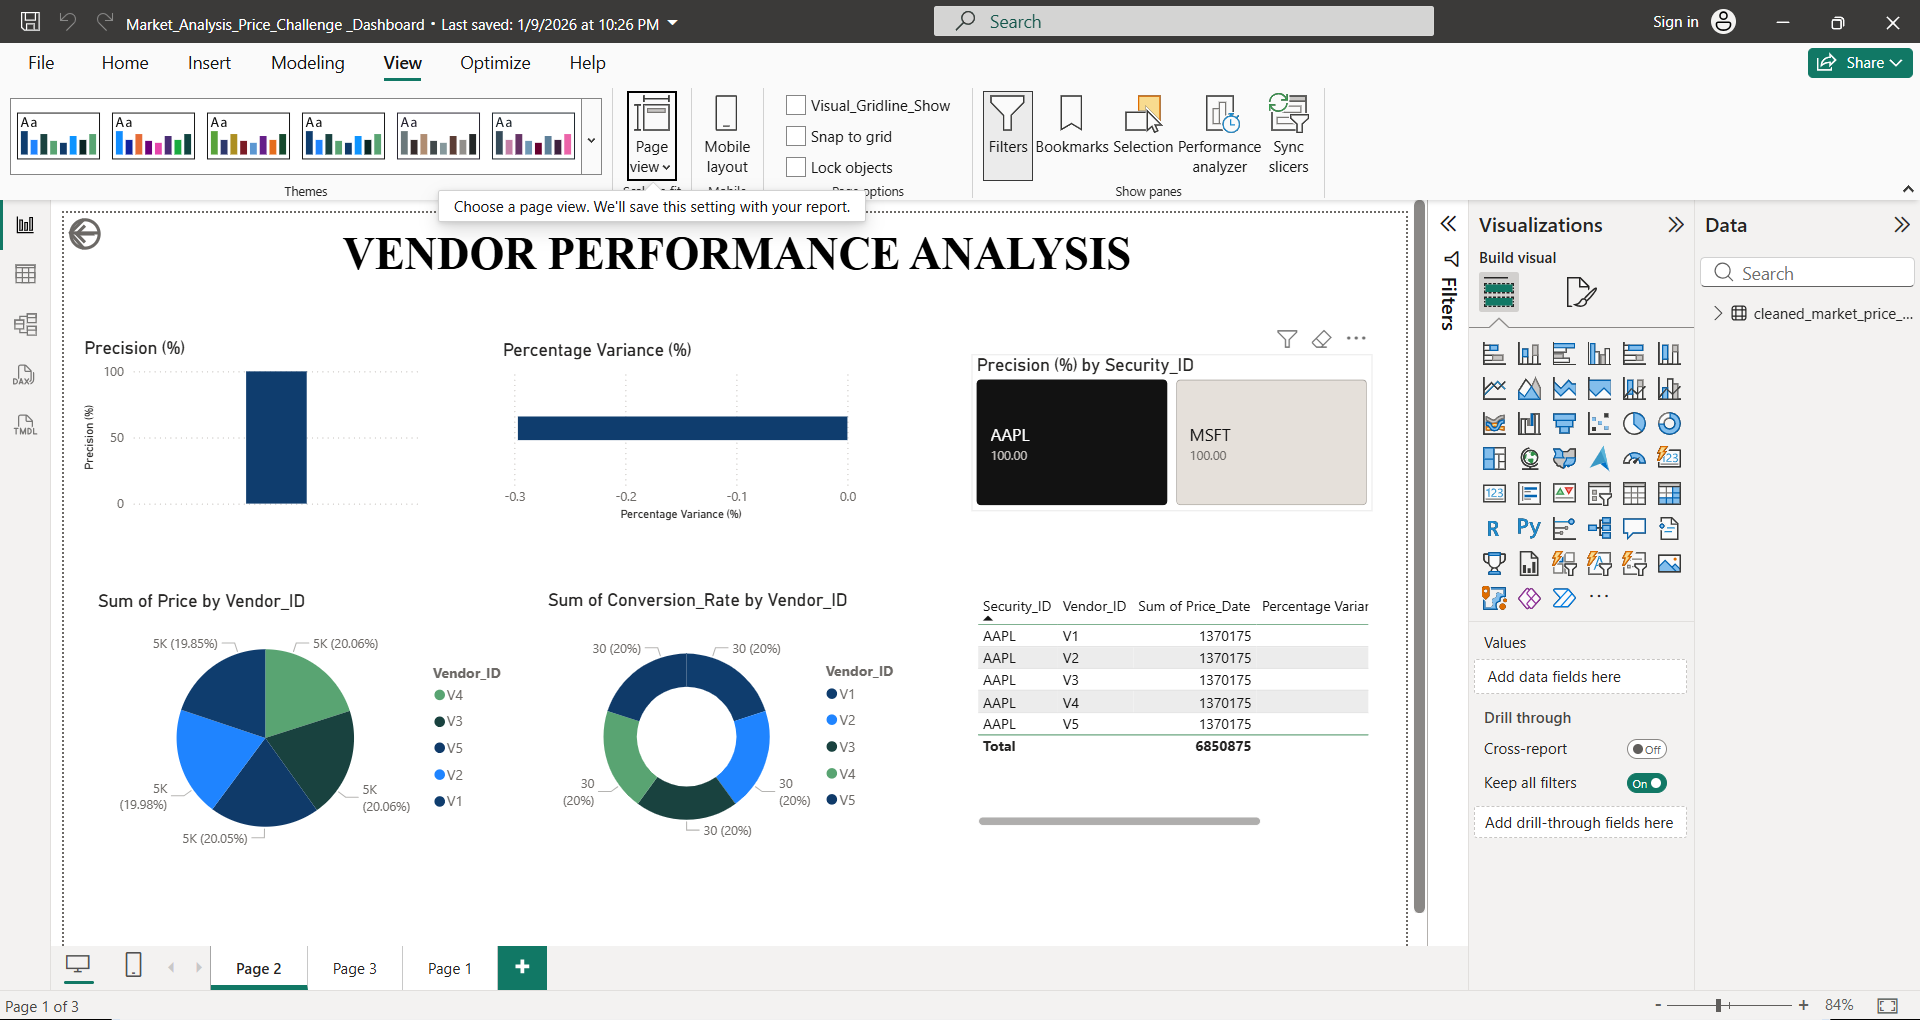

The dashboard page shown, as its layout file describes it:
{"tool":"powerbi","page":{"name":"Page 2","canvas":[1280,720],"ordinal":0},"visuals":[{"type":"columnChart","fields":{"Y":["cleaned_market_price_data.Precision (%)"]},"box":[14.3,117.7,332.3,173.3],"z":0},{"type":"barChart","fields":{"Y":["cleaned_market_price_data.Percentage Variance (%)"]},"box":[413.4,120.8,346.6,178.1],"z":2000},{"type":"textbox","box":[27,326,280,150],"z":3000},{"type":"textbox","box":[14.3,9.5,1254.6,97],"z":4000},{"type":"pieChart","fields":{"Category":["cleaned_market_price_data.Vendor_ID"],"Y":["cleaned_market_price_data.Price"]},"box":[27.3,359.7,412.5,262.5],"z":5000},{"type":"actionButton","box":[0,0,100,40],"z":6000},{"type":"donutChart","fields":{"Category":["cleaned_market_price_data.Vendor_ID"],"Y":["cleaned_market_price_data.Conversion_Rate"]},"box":[456.4,359.4,357.8,262.4],"z":7000},{"type":"actionButton","box":[0,0,100,40],"z":7001},{"type":"advancedSlicerVisual","fields":{"Values":["cleaned_market_price_data.Security_ID"],"Label":["cleaned_market_price_data.Precision (%)"]},"box":[865,135.2,383.2,149.5],"z":7002},{"type":"tableEx","fields":{"Values":["cleaned_market_price_data.Security_ID","cleaned_market_price_data.Vendor_ID","cleaned_market_price_data.Price_Date","cleaned_market_price_data.Percentage Variance (%)","cleaned_market_price_data.Outlier Bucket"]},"box":[865,359.4,383.2,230.6],"z":7003}]}

Visuals, with their boxes on the page's 1280x720 design canvas (x1, y1, x2, y2). These are canvas units, not pixel positions in the 1920x1020 screenshot, which may show the page scaled, cropped or inside an application window:
columnChart - cleaned_market_price_data.Precision (%): {"left": 14, "top": 118, "right": 347, "bottom": 291}
barChart - cleaned_market_price_data.Percentage Variance (%): {"left": 413, "top": 121, "right": 760, "bottom": 299}
textbox: {"left": 27, "top": 326, "right": 307, "bottom": 476}
textbox: {"left": 14, "top": 10, "right": 1269, "bottom": 106}
pieChart - cleaned_market_price_data.Vendor_ID x cleaned_market_price_data.Price: {"left": 27, "top": 360, "right": 440, "bottom": 622}
actionButton: {"left": 0, "top": 0, "right": 100, "bottom": 40}
donutChart - cleaned_market_price_data.Vendor_ID x cleaned_market_price_data.Conversion_Rate: {"left": 456, "top": 359, "right": 814, "bottom": 622}
actionButton: {"left": 0, "top": 0, "right": 100, "bottom": 40}
advancedSlicerVisual - cleaned_market_price_data.Security_ID x cleaned_market_price_data.Precision (%): {"left": 865, "top": 135, "right": 1248, "bottom": 285}
tableEx - cleaned_market_price_data.Security_ID x cleaned_market_price_data.Vendor_ID: {"left": 865, "top": 359, "right": 1248, "bottom": 590}
